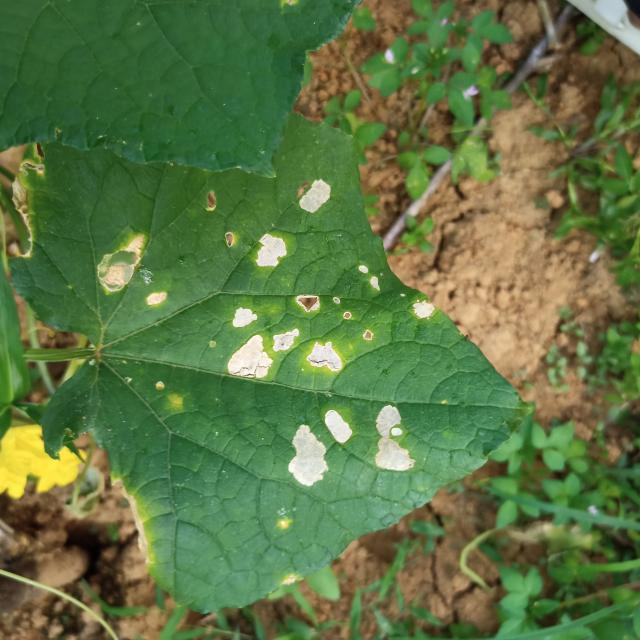disease_cucumber: (226, 294, 344, 384), (95, 233, 170, 307), (286, 408, 354, 489), (373, 403, 417, 475), (294, 177, 332, 215), (255, 232, 288, 269), (356, 263, 385, 295), (410, 296, 437, 324)
